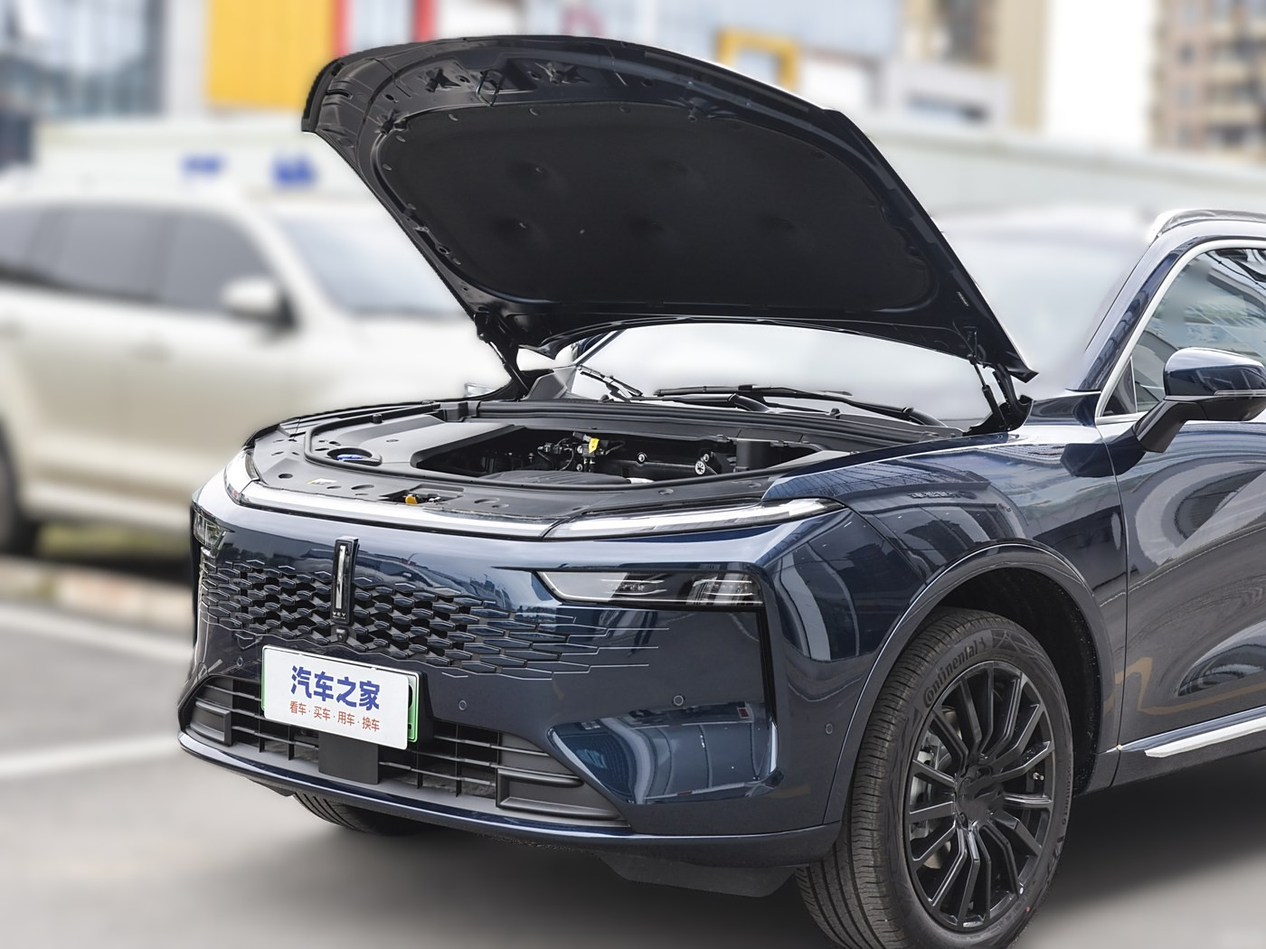WEY: (332, 541, 352, 623)
